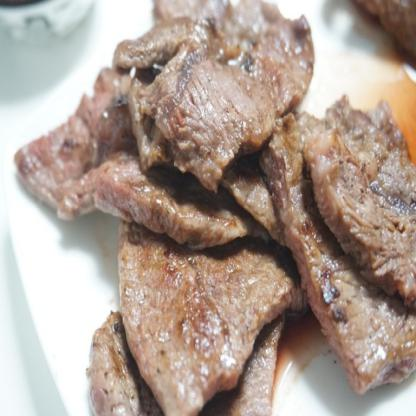Carne: (172, 0, 308, 168), (311, 100, 415, 305), (142, 249, 281, 398), (24, 83, 161, 219), (339, 300, 416, 380), (273, 144, 317, 262)
